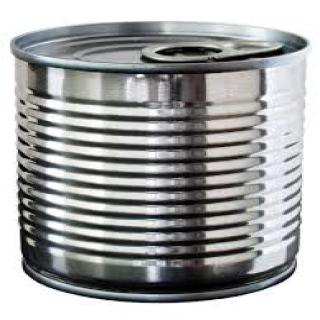Anorganik: (11, 17, 311, 302)
